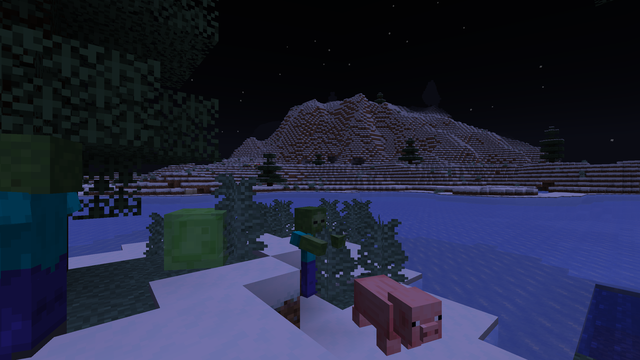cochons: (346, 272, 426, 356)
slimes: (167, 205, 236, 273)
zombies: (2, 140, 79, 359), (291, 208, 329, 307)
